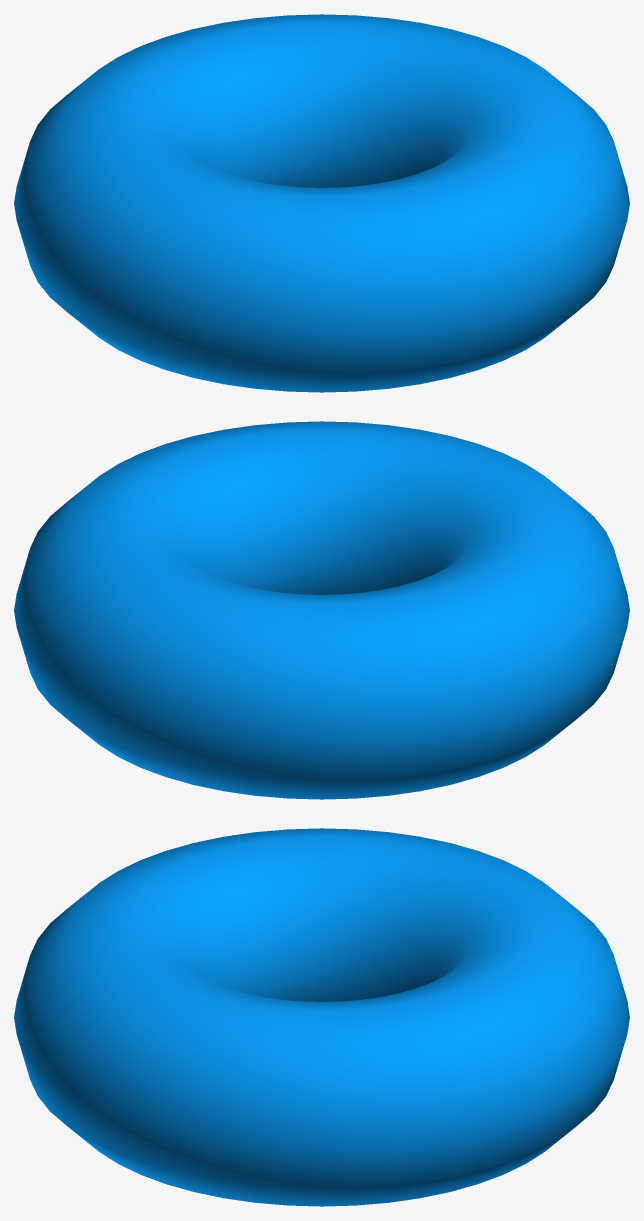
Rendered from TorusPrimitive.fbx.
3 renders of one model, top to bottom at view 1: azimuth 30°, elevation 25°; view 2: azimuth 150°, elevation 25°; view 3: azimuth 270°, elevation 25°, orthographic.
Visible parts, largest first — view 1: Torus; view 2: Torus; view 3: Torus.
Boxes of the visible parts, <box> form: Torus: <box>14,14,629,392</box>; Torus: <box>14,421,629,799</box>; Torus: <box>14,828,629,1206</box>.
Size of the model in its own units: 150 by 150 by 50.
